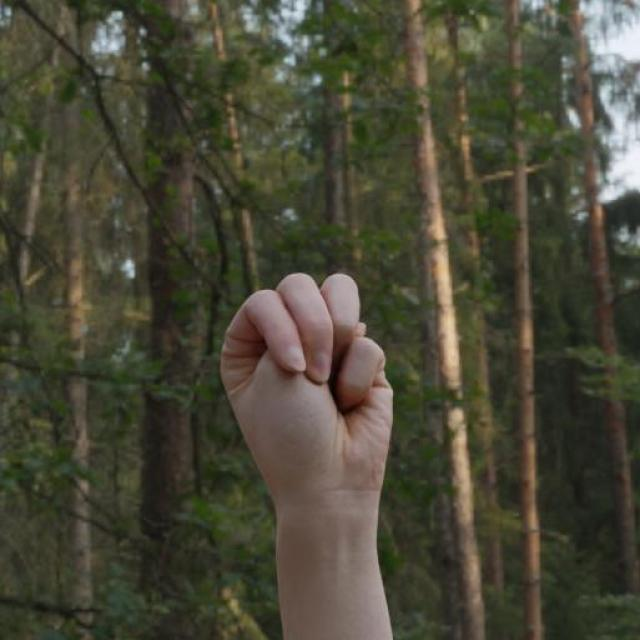M: (215, 269, 399, 509)
